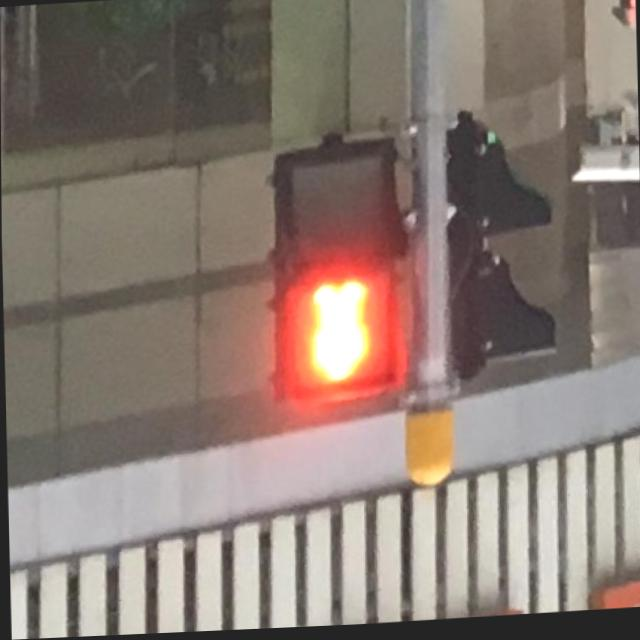red_light: (288, 275, 384, 396)
